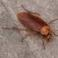cockroach: (16, 12, 50, 37)
